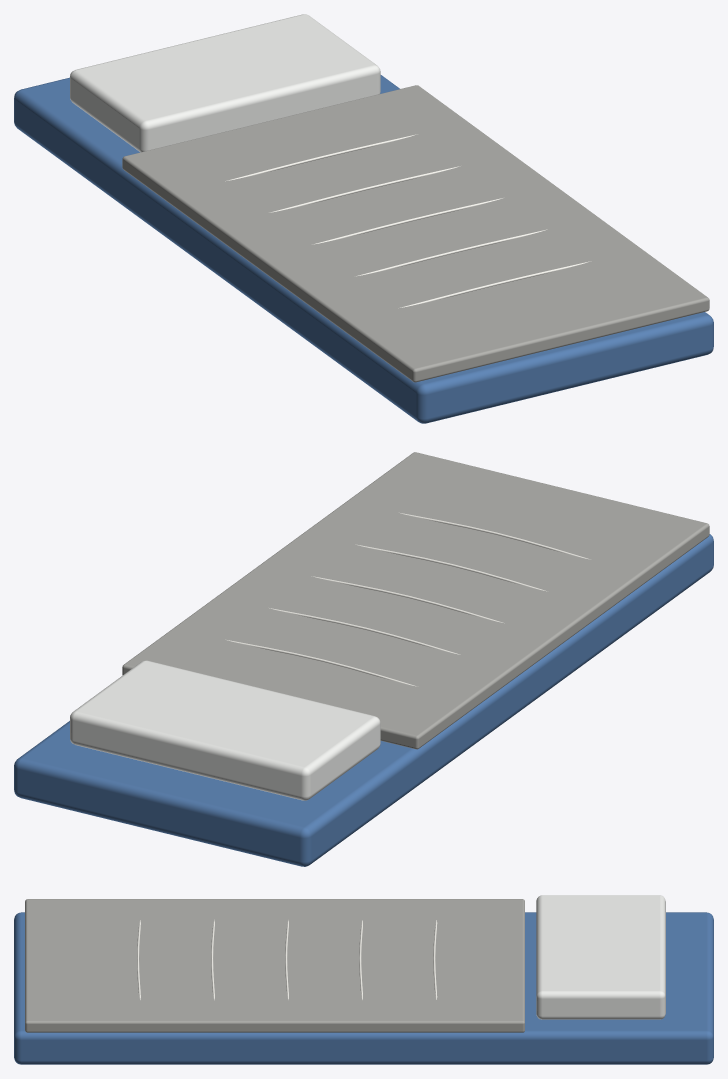
The model's file is prison-complex-builder-inmate-bunk-bedding-1adf2263__25695.glb.
3 renders of one model, top to bottom at view 1: azimuth 30°, elevation 25°; view 2: azimuth 150°, elevation 25°; view 3: azimuth 270°, elevation 25°, orthographic. The views are drawn at different scales.
Parts seen in each view (by area): view 1: inmate-bunk-bedding; view 2: inmate-bunk-bedding; view 3: inmate-bunk-bedding.
Boxes of the visible parts, box(x1,y1,x2,y2) form: inmate-bunk-bedding: box(14, 14, 713, 423); inmate-bunk-bedding: box(14, 452, 713, 866); inmate-bunk-bedding: box(14, 895, 713, 1064).
Size of the model in its own units: 0.79 by 0.185 by 1.89.
